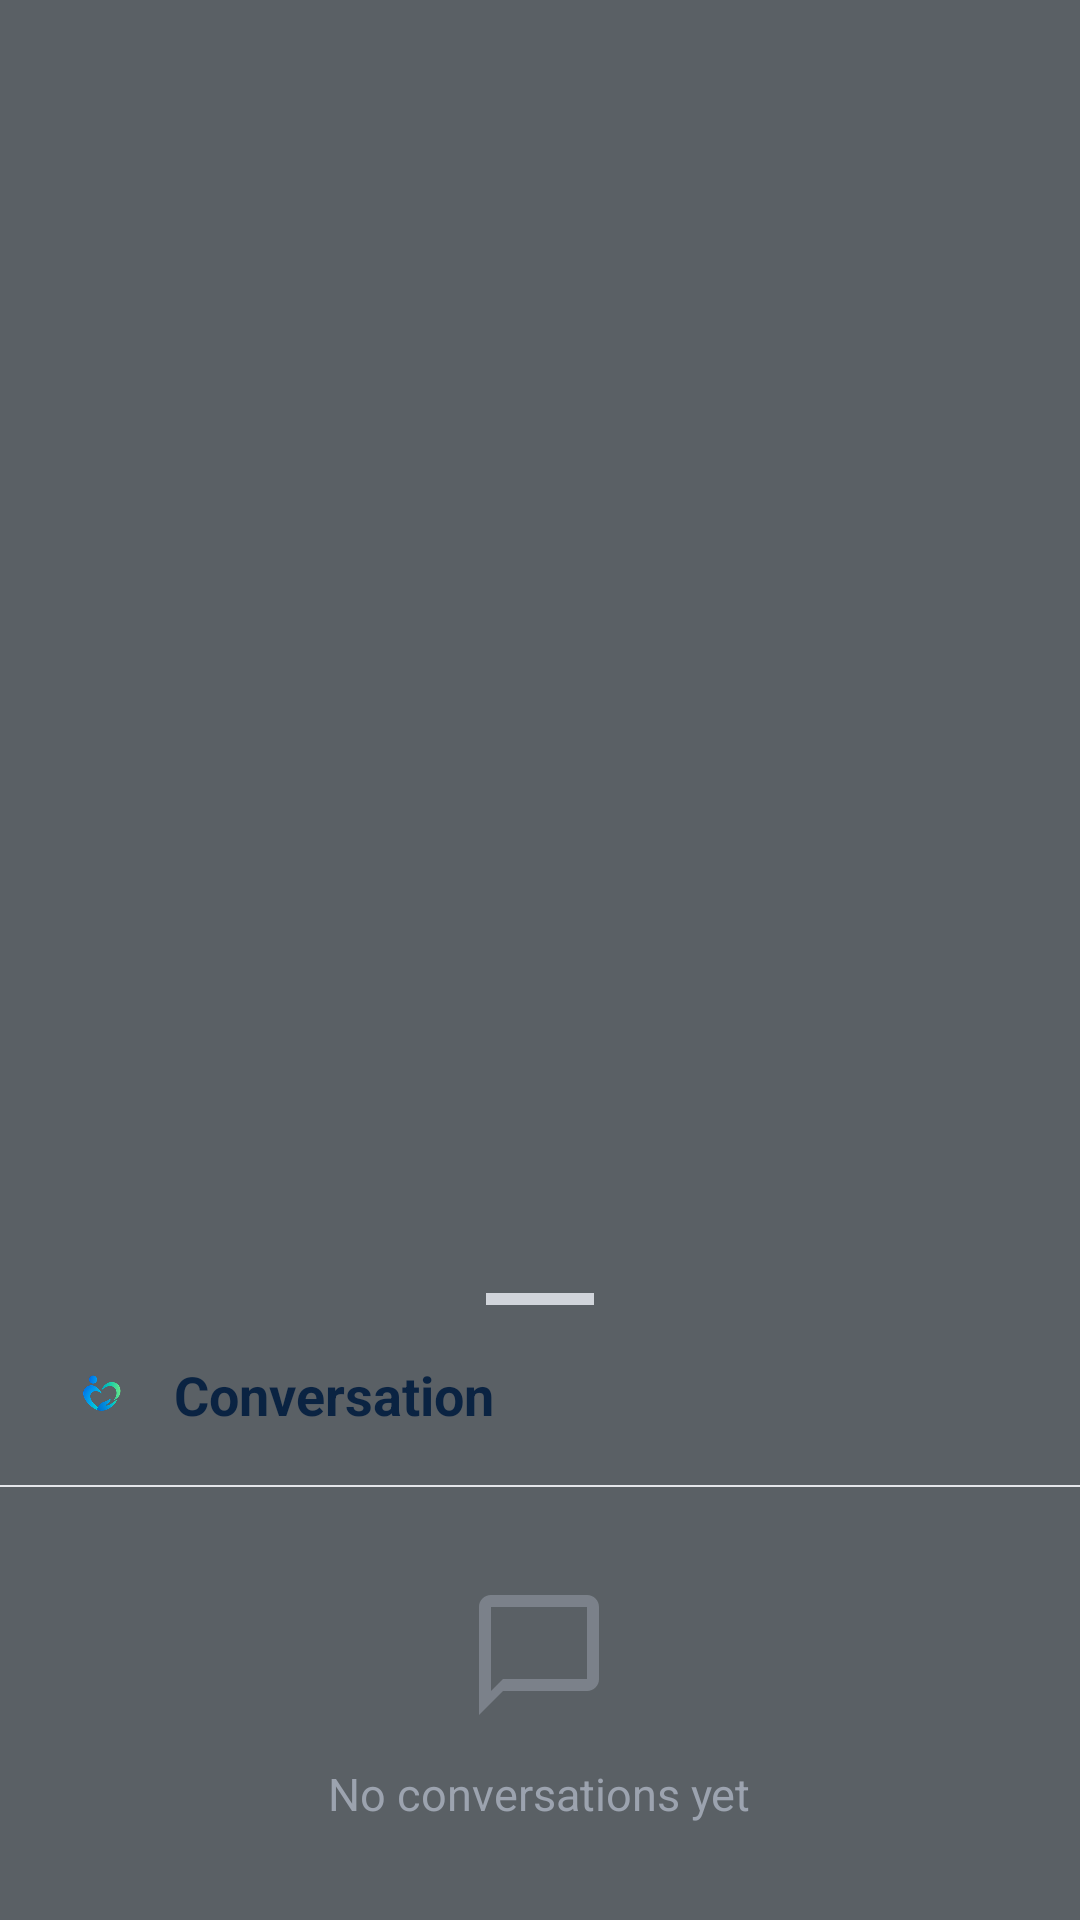

Icons on this 1080 × 1920 Android screen, each with the point to tap as (x,y):
No messages: (539,1654)
